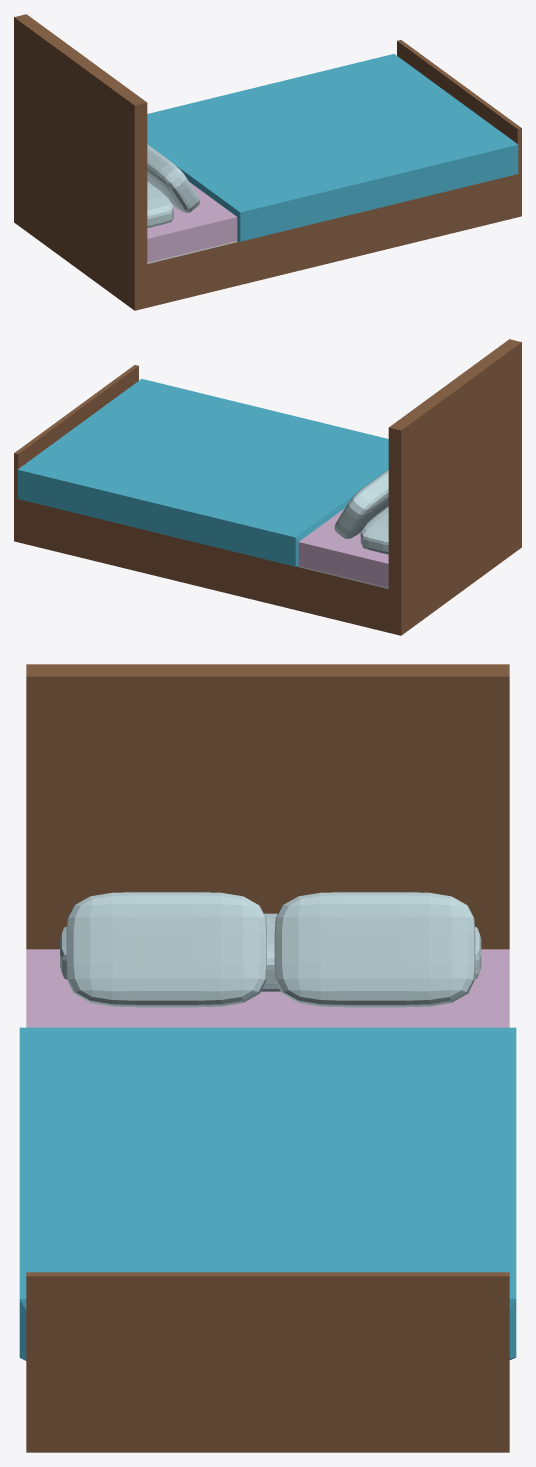
The model's file is Bed.fbx.
The picture shows the model from 3 angles, top to bottom: view 1: azimuth 30°, elevation 25°; view 2: azimuth 150°, elevation 25°; view 3: azimuth 270°, elevation 25°; orthographic projection. The views are drawn at different scales.
Visible parts, largest first — view 1: Cube.001; view 2: Cube.001; view 3: Cube.001.
Part boxes in pixels (<box>): Cube.001: <box>14,14,521,310</box>; Cube.001: <box>14,339,521,635</box>; Cube.001: <box>19,664,516,1452</box>.
Bounding box in the file's own units: 834 × 422 × 463.
